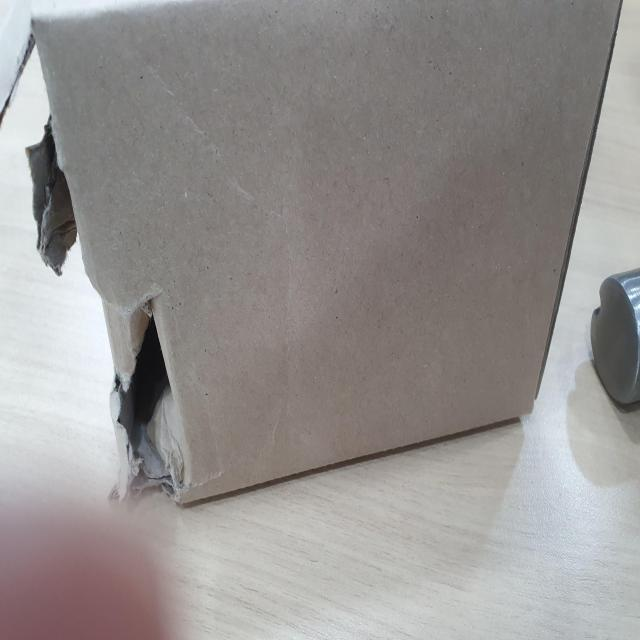damaged: (99, 299, 189, 479)
